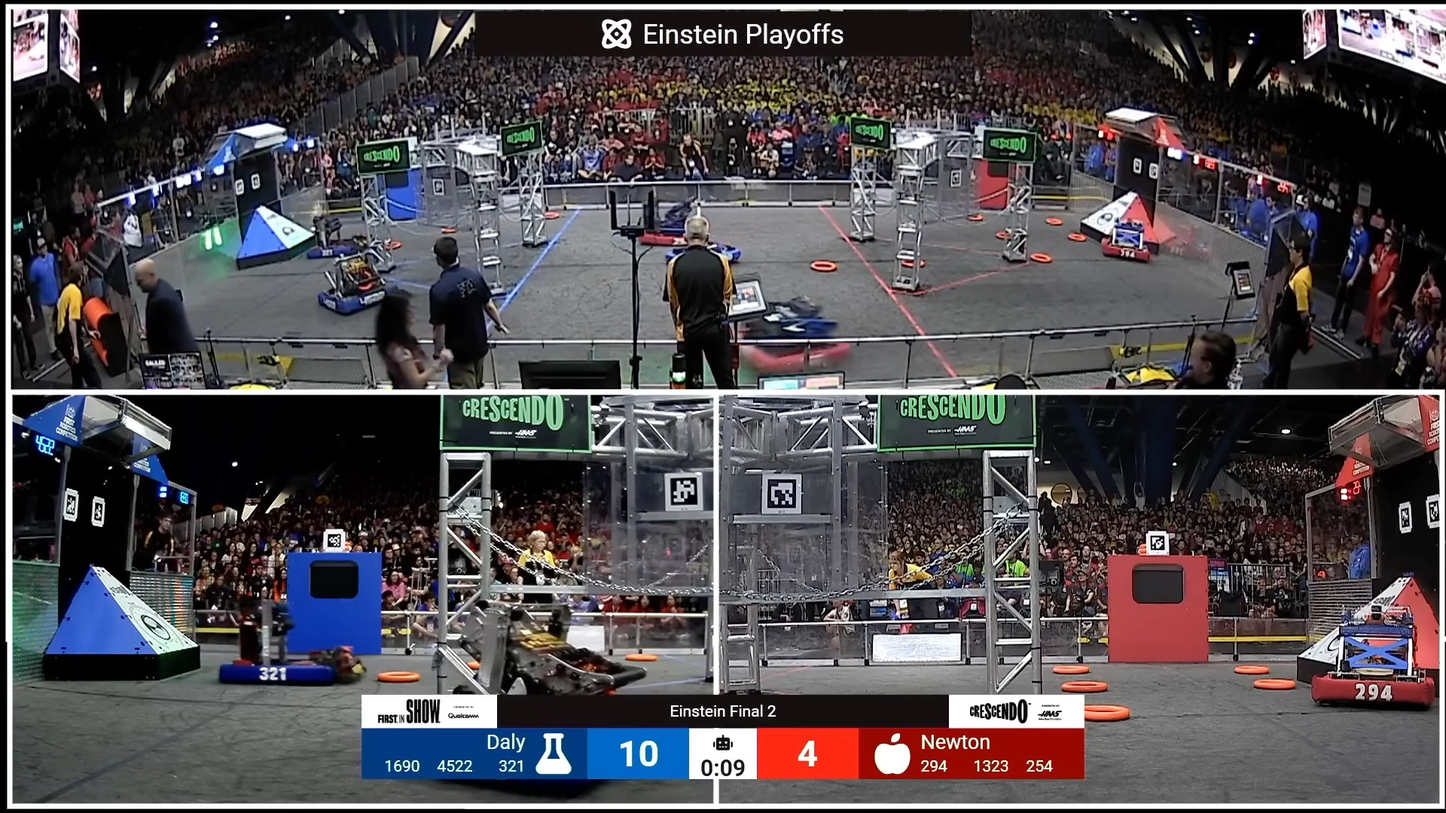bumpers: (721, 313, 860, 383), (216, 649, 373, 700), (1307, 670, 1443, 712), (1084, 220, 1180, 267), (639, 211, 723, 256), (309, 284, 406, 319)
